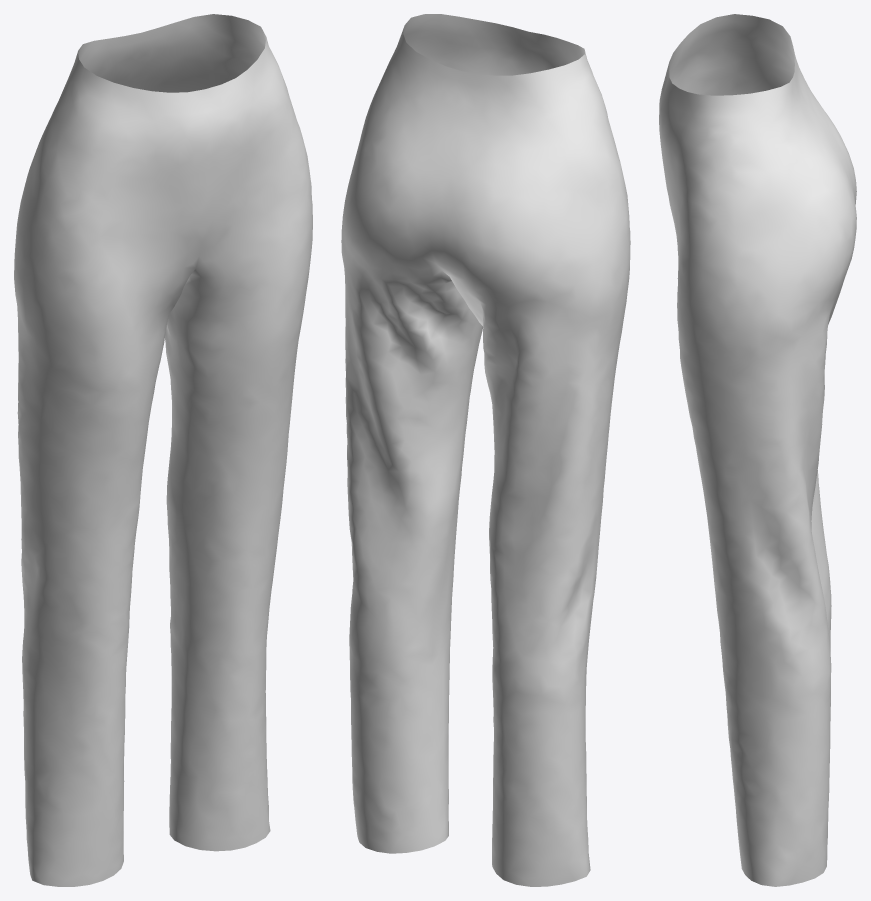
File: shtany.gltf
The picture shows the model from 3 angles, left to right: view 1: azimuth 30°, elevation 25°; view 2: azimuth 150°, elevation 25°; view 3: azimuth 270°, elevation 25°; orthographic projection. The views are drawn at different scales.
Visible parts, largest first — view 1: shtany; view 2: shtany; view 3: shtany.
Part boxes in pixels (<box>): shtany: <box>14,14,312,886</box>; shtany: <box>341,14,630,886</box>; shtany: <box>659,14,856,886</box>.
Bounding box in the file's own units: 1.5 × 4.32 × 0.994.
Materials: 1 (1 with a texture image).
